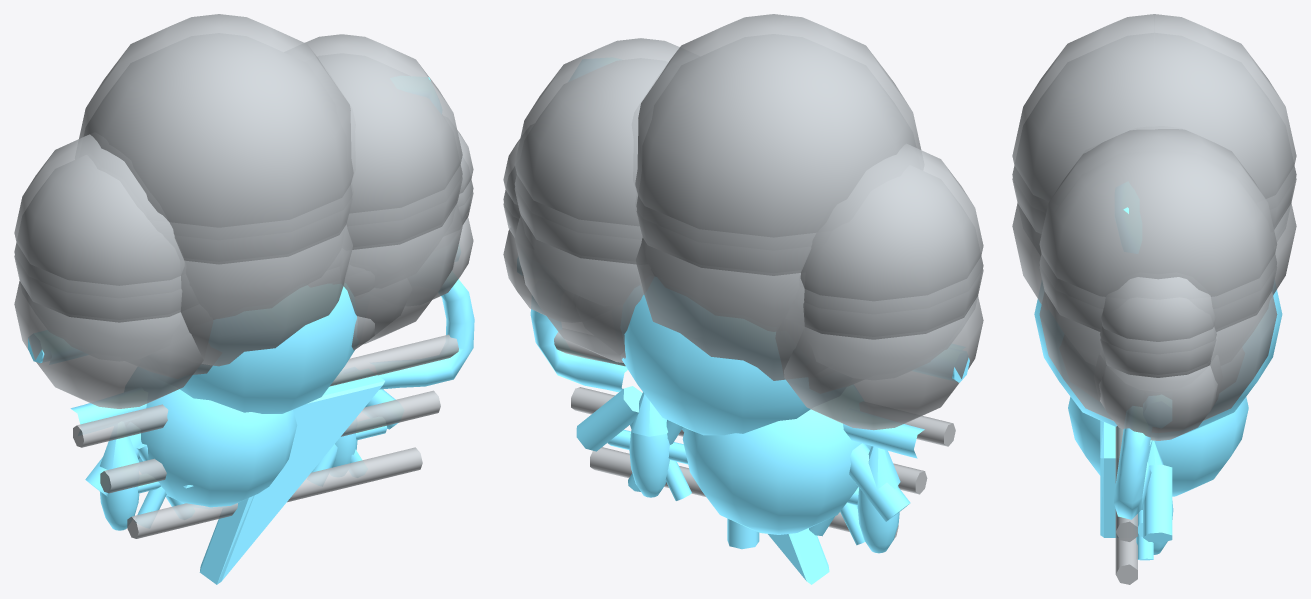
File: weather-symbols.glb
3 renders of one model, left to right at view 1: azimuth 30°, elevation 25°; view 2: azimuth 150°, elevation 25°; view 3: azimuth 270°, elevation 25°, orthographic. The views are drawn at different scales.
Parts seen in each view (by area): view 1: snow, cloud, fog, heat, sun, rain, storm, wind; view 2: snow, cloud, sun, fog, heat, rain, wind, storm; view 3: snow, cloud, fog, heat, rain, sun, wind, storm.
Boxes of the visible parts, x1,y1,x2,y2 form: snow: (14,14,473,514); cloud: (14,203,473,408); fog: (14,176,473,538); heat: (138,389,297,507); sun: (28,286,398,496); rain: (14,164,473,530); storm: (183,375,384,584); wind: (70,77,474,424); snow: (503,14,983,545); cloud: (503,215,983,430); sun: (576,294,969,549); fog: (503,187,983,538); heat: (682,409,871,534); rain: (503,174,983,553); wind: (530,309,924,458); storm: (682,427,829,584); snow: (1012,14,1296,560); cloud: (1012,203,1296,440); fog: (1012,177,1296,584); heat: (1068,397,1248,496); rain: (1012,165,1296,554); sun: (1034,289,1282,542); wind: (1114,207,1151,519); storm: (1100,420,1115,537).
Bounding box in the file's own units: 1.92 × 2.24 × 1.1.
